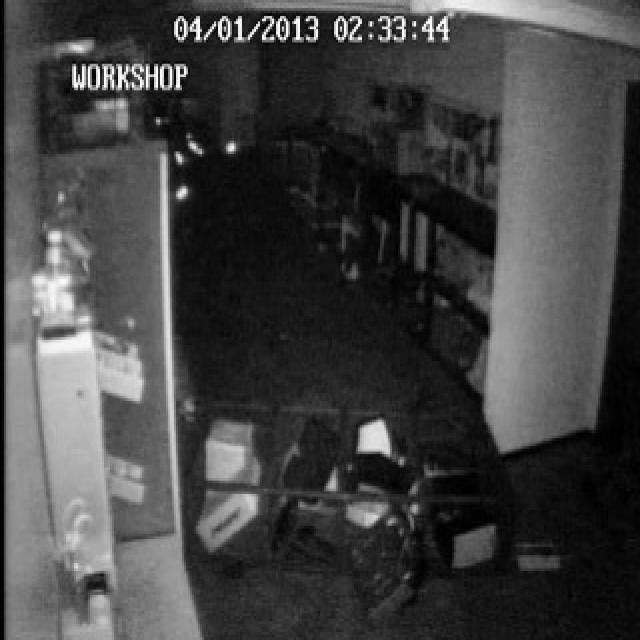burglary: (178, 393, 509, 585)
